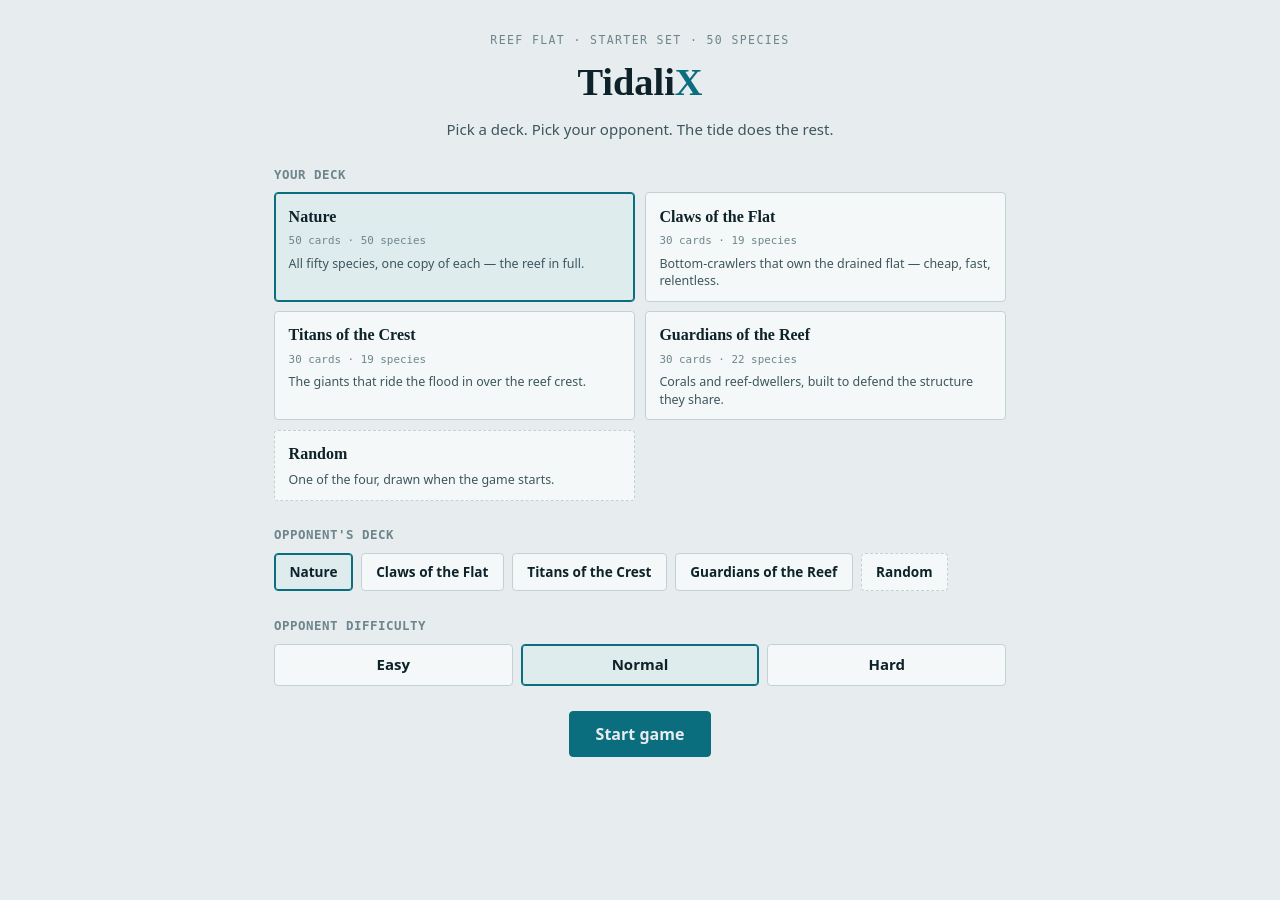
Test: client › itemises the energy income by source rather than showing a bare total
(page scrolled)
Click the button with class "setup__start".
click(640, 734)  # box 569,711 -> 711,757
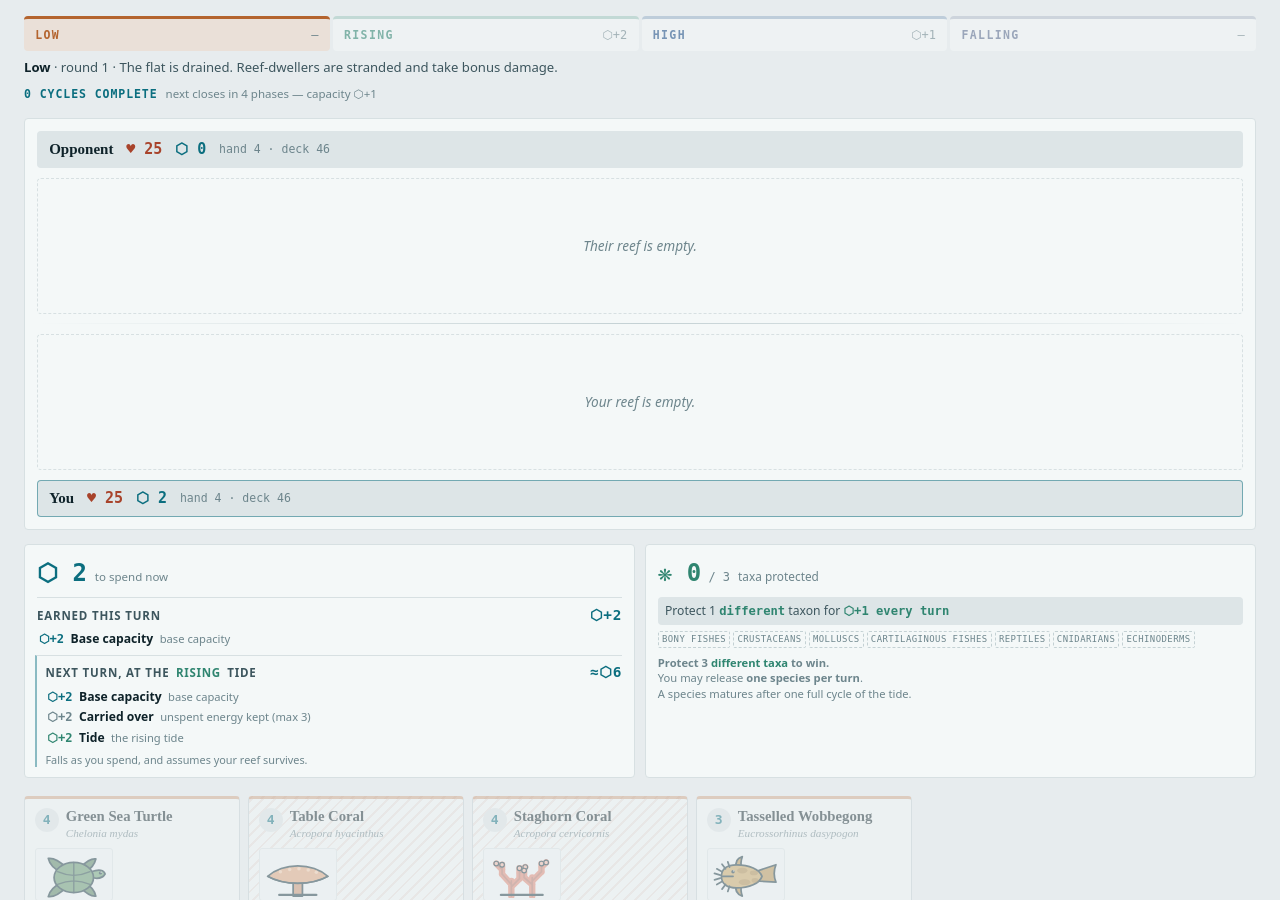
Expected: the element with class "energy" is shown, 24,544 -> 635,778
Expected: the element with class "energy" shows "Base capacity", 71,630 -> 153,647
Expected: the 1st list item with class "energy__line" is shown, 39,630 -> 230,647
